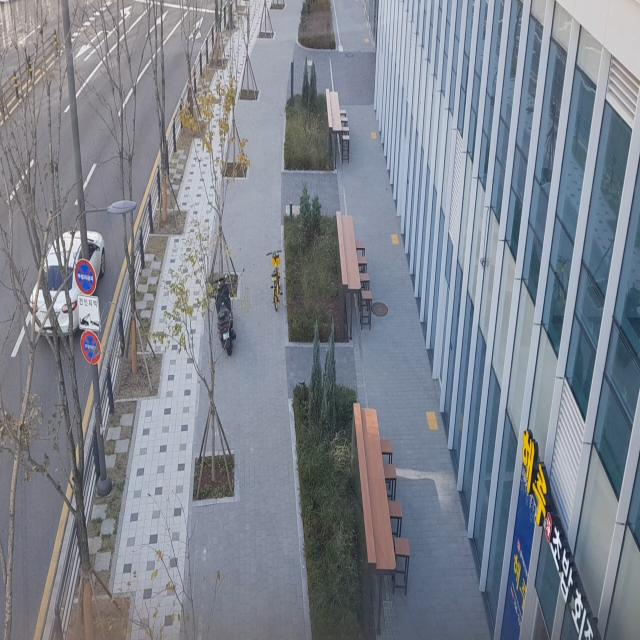Car: (25, 202, 117, 364)
